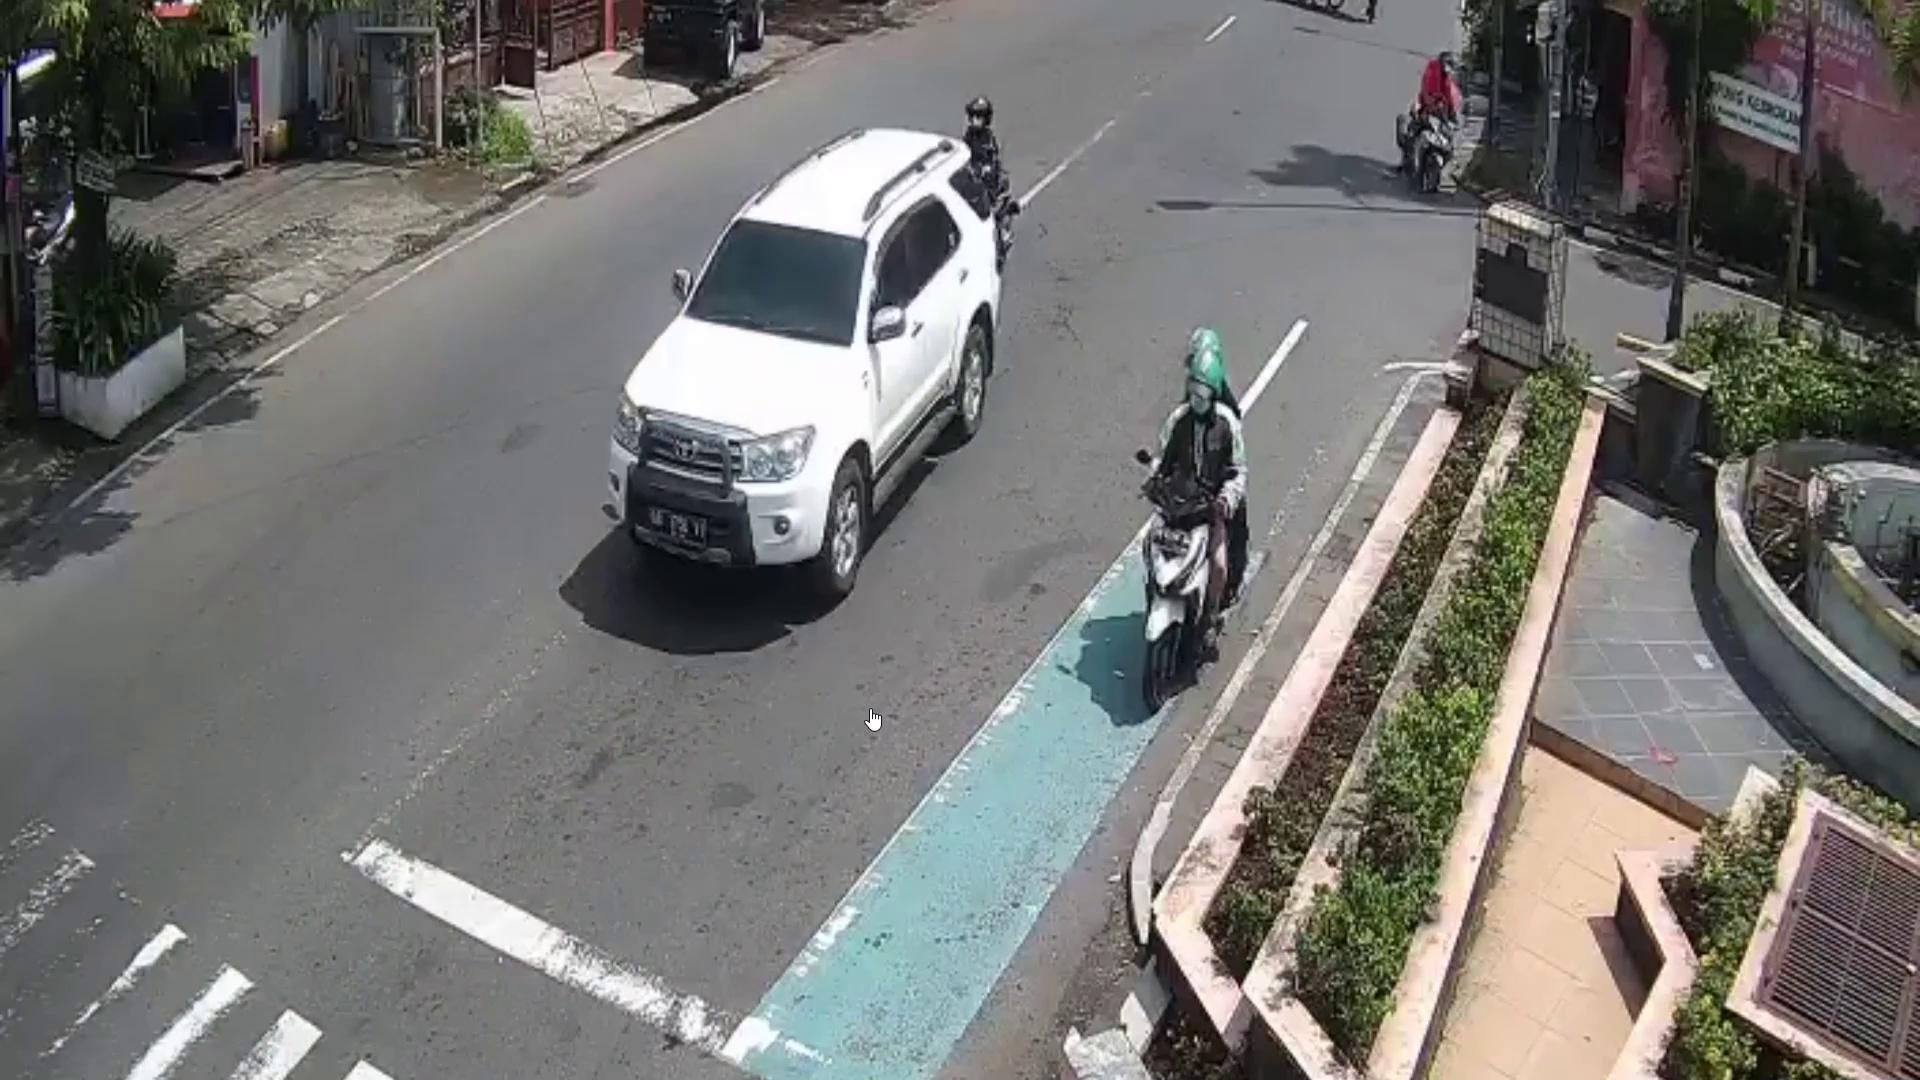car: (605, 128, 1002, 595)
motorbike: (1142, 476, 1218, 707), (1391, 102, 1458, 208)
